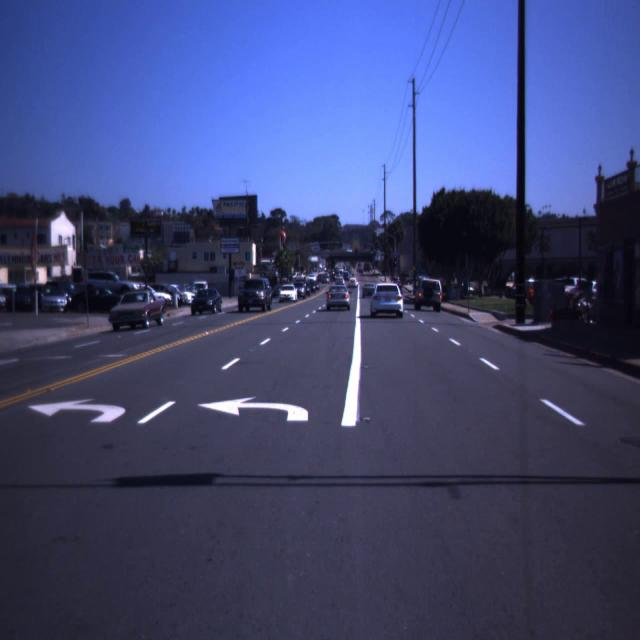go: (369, 241, 375, 255), (393, 252, 399, 265)
go traffic light: (369, 241, 375, 255), (393, 252, 399, 265)
stop left: (353, 246, 359, 258)
stop left traffic light: (353, 246, 359, 258)
